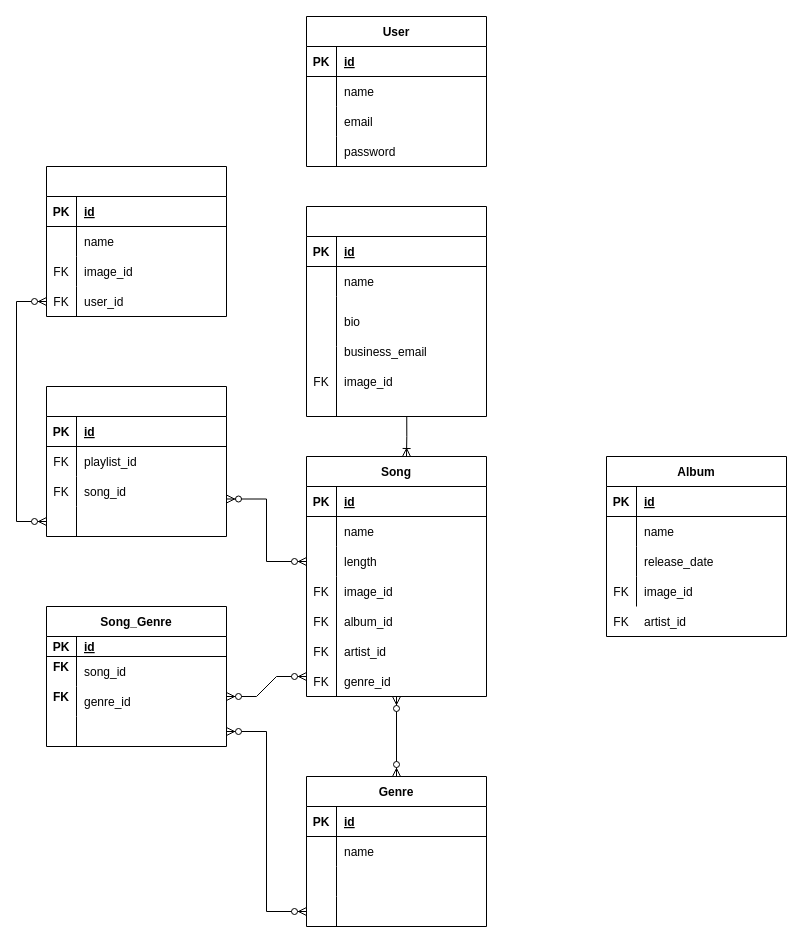
The diagram is 803 pixels wide and 943 high, and some of its shapes have lost their labels. Each missing label, with the box of its shape:
Artist: (306, 206, 486, 416)
Playlist: (46, 166, 226, 316)
Playlist_Song: (46, 386, 226, 536)
